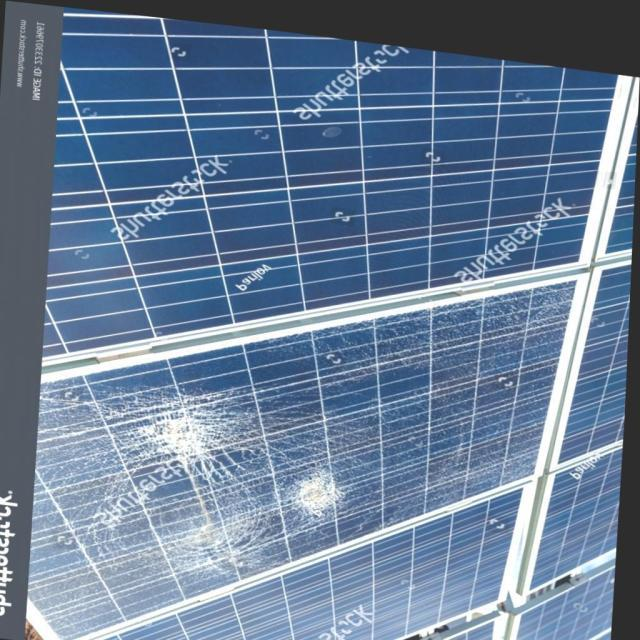cracked: (22, 276, 570, 602)
